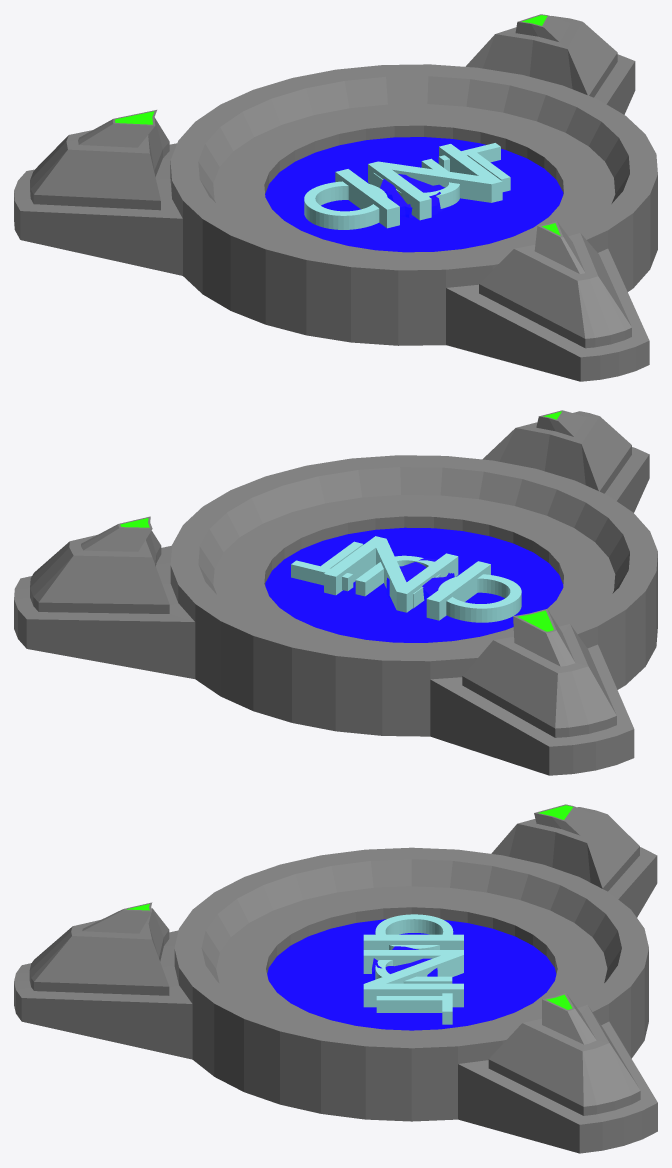
The model's file is TeleporterOutAnim.glb.
3 renders of one model, top to bottom at view 1: azimuth 30°, elevation 25°; view 2: azimuth 150°, elevation 25°; view 3: azimuth 270°, elevation 25°, orthographic. The views are drawn at different scales.
Visible parts, largest first — view 1: Cylinder.002, IN, IN.001, Cube, Cylinder.001; view 2: Cylinder.002, IN, IN.001, Cube, Cylinder.001; view 3: Cylinder.002, IN, IN.001, Cube.
Part boxes in pixels (left/top/right/bottom): Cylinder.002: left=14, top=14, right=657, bottom=381; IN: left=335, top=144, right=502, bottom=228; IN.001: left=304, top=158, right=459, bottom=229; Cube: left=438, top=143, right=510, bottom=191; Cylinder.001: left=380, top=174, right=445, bottom=217; Cylinder.002: left=14, top=410, right=657, bottom=775; IN: left=324, top=536, right=490, bottom=620; IN.001: left=355, top=555, right=521, bottom=622; Cube: left=291, top=541, right=363, bottom=591; Cylinder.001: left=386, top=558, right=454, bottom=603; Cylinder.002: left=14, top=804, right=657, bottom=1153; IN: left=363, top=934, right=463, bottom=1007; IN.001: left=375, top=914, right=453, bottom=983; Cube: left=376, top=993, right=452, bottom=1024.
Size of the model in its own units: 1.95 by 0.3648 by 1.82.
